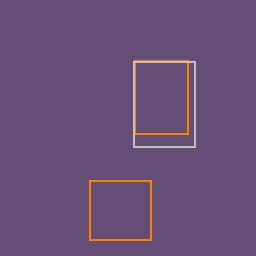Helmet: (133, 59, 188, 134), (89, 179, 151, 240)
Smoke: (132, 61, 196, 147)
